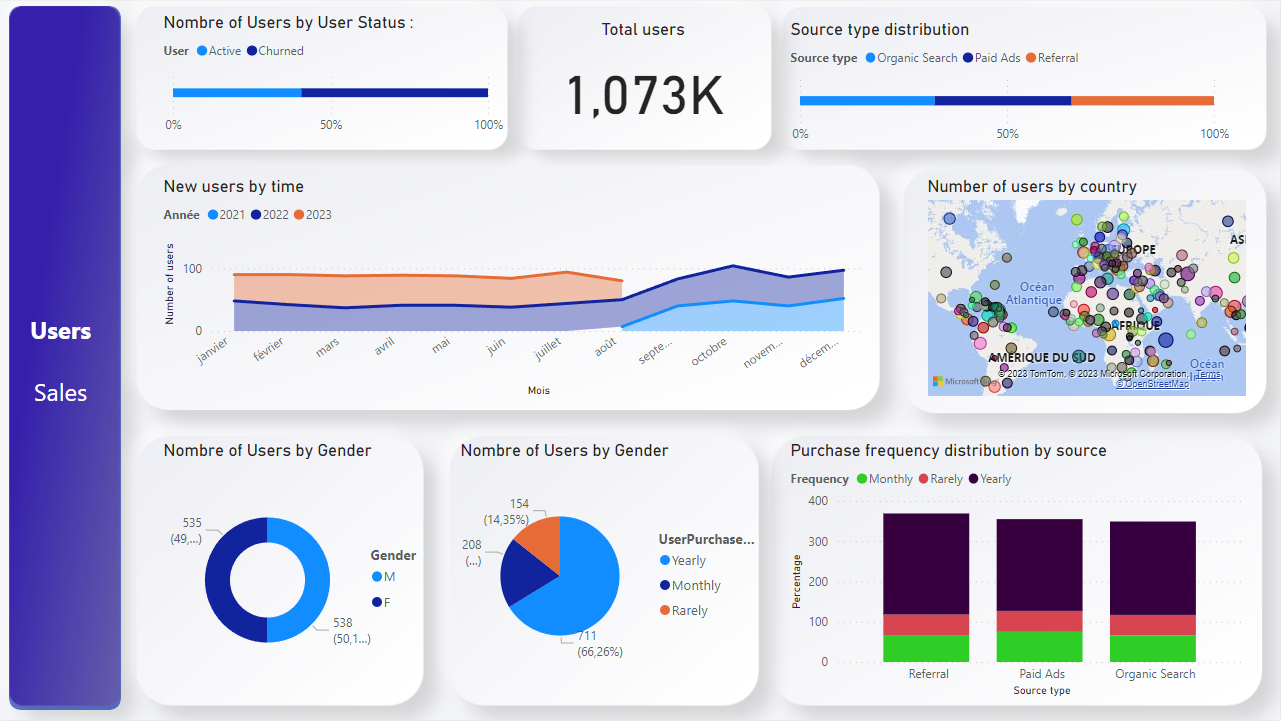

The page's visual inventory and layout, read from the dashboard file:
{"tool":"powerbi","page":{"name":"Users","canvas":[1280,720],"ordinal":0},"visuals":[{"type":"shape","box":[9,6,112,704],"z":500},{"type":"map","title":"Number of users by country","fields":{"Category":["usersDM.country"],"Size":["CountNonNull(usersDM.country)"],"Series":["usersDM.country"]},"box":[923.3,175.6,327.8,225.6],"z":1000},{"type":"cardVisual","title":"Total users","fields":{"Data":["CountNonNull(usersDM.ID)"]},"box":[534.4,18.9,218.9,124.4],"z":2000},{"type":"pageNavigator","box":[0,302.2,122.2,115.6],"z":4000},{"type":"donutChart","title":"Nombre of Users by Gender","fields":{"Y":["CountNonNull(usersDM.Gender)"],"Category":["usersDM.Gender"]},"box":[158.9,440,283.3,261.1],"z":5000},{"type":"stackedAreaChart","title":"New users by time","fields":{"Category":["usersDM.UserSignUpDate.Variation.Hiérarchie de dates.Mois","salesDM.Date_Purchase.Variation.Hiérarchie de dates.Trimestre"],"Y":["CountNonNull(usersDM.UserSignUpDate)"],"Series":["usersDM.UserSignUpDate.Variation.Hiérarchie de dates.Année"]},"box":[158.9,175.6,712.2,225.6],"z":6000},{"type":"hundredPercentStackedBarChart","title":"Nombre of Users by User Status :","fields":{"Series":["usersDM.UserStatus"],"Y":["CountNonNull(usersDM.UserStatus)"]},"box":[158.9,12.2,348.9,131.1],"z":7000},{"type":"pieChart","title":"Nombre of Users by Gender","fields":{"Category":["usersDM.UserPurchaseFrequency"],"Y":["CountNonNull(usersDM.UserPurchaseFrequency)"]},"box":[455.6,440,307.8,253.3],"z":8000},{"type":"hundredPercentStackedBarChart","title":"Source type distribution","fields":{"Y":["CountNonNull(usersDM.UserSourceType)"],"Series":["usersDM.UserSourceType"]},"box":[785.6,18.9,448.9,133.3],"z":9000},{"type":"columnChart","title":"Purchase frequency distribution by source","fields":{"Y":["CountNonNull(usersDM.UserPurchaseFrequency)"],"Series":["usersDM.UserPurchaseFrequency"],"Category":["usersDM.UserSourceType"]},"box":[785.6,440,465.6,261.1],"z":10000}]}

Visuals, with their boxes in screenshot pixels (x1, y1, x2, y2), scaled from the page's 1280x720 canvas onto the 1281x721 screenshot:
shape: {"left": 9, "top": 6, "right": 121, "bottom": 711}
"Number of users by country" map: {"left": 924, "top": 176, "right": 1252, "bottom": 402}
"Total users" cardVisual: {"left": 535, "top": 19, "right": 754, "bottom": 143}
pageNavigator: {"left": 0, "top": 303, "right": 122, "bottom": 418}
"Nombre of Users by Gender" donutChart: {"left": 159, "top": 441, "right": 443, "bottom": 702}
"New users by time" stackedAreaChart: {"left": 159, "top": 176, "right": 872, "bottom": 402}
"Nombre of Users by User Status :" hundredPercentStackedBarChart: {"left": 159, "top": 12, "right": 508, "bottom": 143}
"Nombre of Users by Gender" pieChart: {"left": 456, "top": 441, "right": 764, "bottom": 694}
"Source type distribution" hundredPercentStackedBarChart: {"left": 786, "top": 19, "right": 1235, "bottom": 152}
"Purchase frequency distribution by source" columnChart: {"left": 786, "top": 441, "right": 1252, "bottom": 702}
